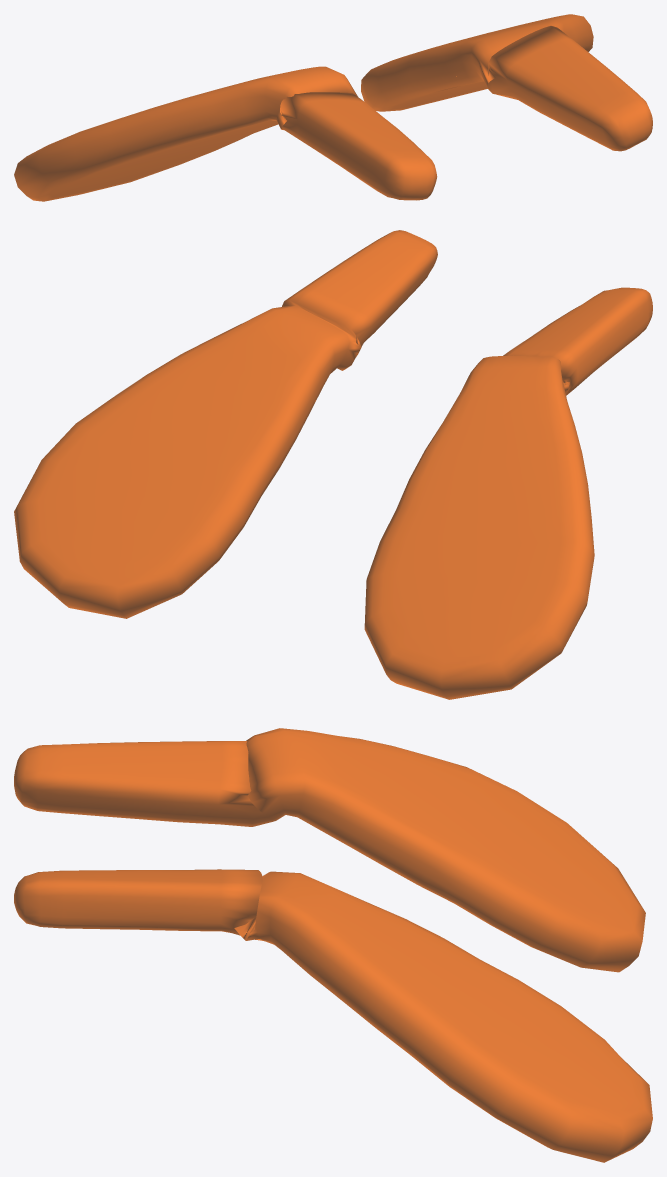
Rendered from b_legs.glb.
The picture shows the model from 3 angles, top to bottom: view 1: azimuth 30°, elevation 25°; view 2: azimuth 150°, elevation 25°; view 3: azimuth 270°, elevation 25°; orthographic projection. The views are drawn at different scales.
Parts seen in each view (by area): view 1: Legs; view 2: Legs; view 3: Legs.
Part boxes in pixels (x1,y1,x2,y2): Legs: (14,14,652,201); Legs: (14,230,652,699); Legs: (14,728,652,1162).
Size of the model in its own units: 0.65 by 0.2414 by 0.5806.
